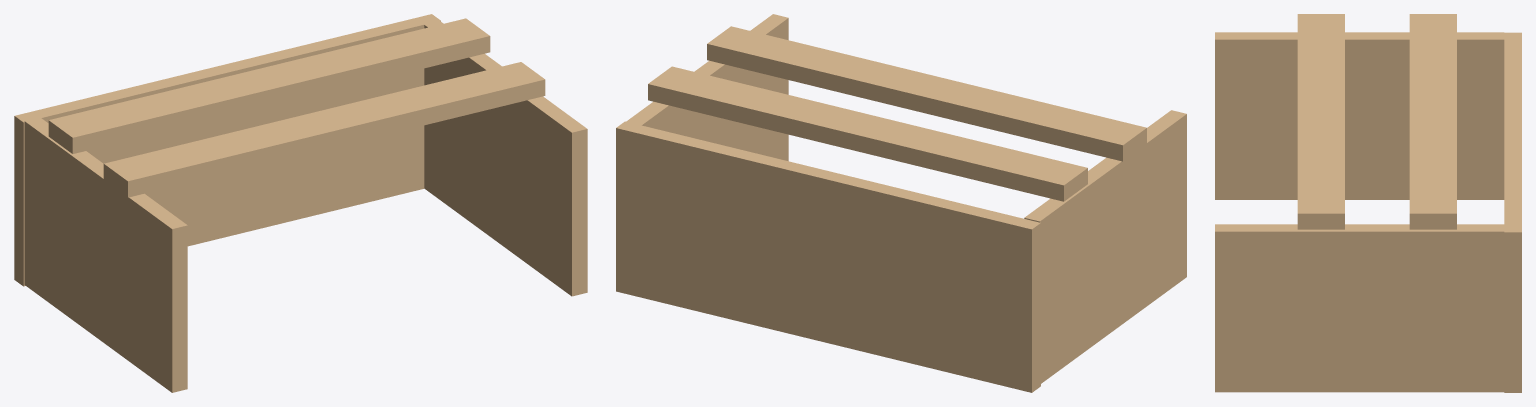
File: tinker.obj
3 renders of one model, left to right at view 1: azimuth 30°, elevation 25°; view 2: azimuth 150°, elevation 25°; view 3: azimuth 270°, elevation 25°, orthographic. The views are drawn at different scales.
Parts seen in each view (by area): view 1: obj_0; view 2: obj_0; view 3: obj_0.
Boxes of the visible parts, x1=… form: obj_0: x1=14, y1=14, x2=587, y2=392; obj_0: x1=616, y1=14, x2=1186, y2=392; obj_0: x1=1215, y1=14, x2=1521, y2=392.
Bounding box in the file's own units: 402 × 168 × 260.
